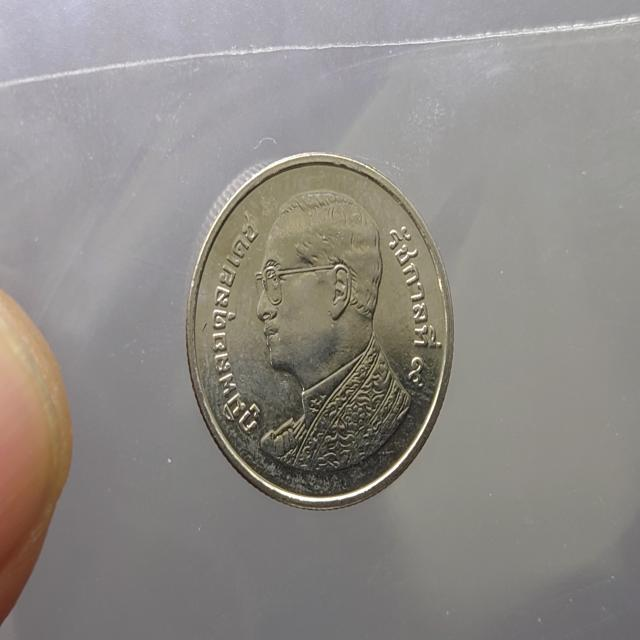1 Bath: (178, 142, 464, 525)
